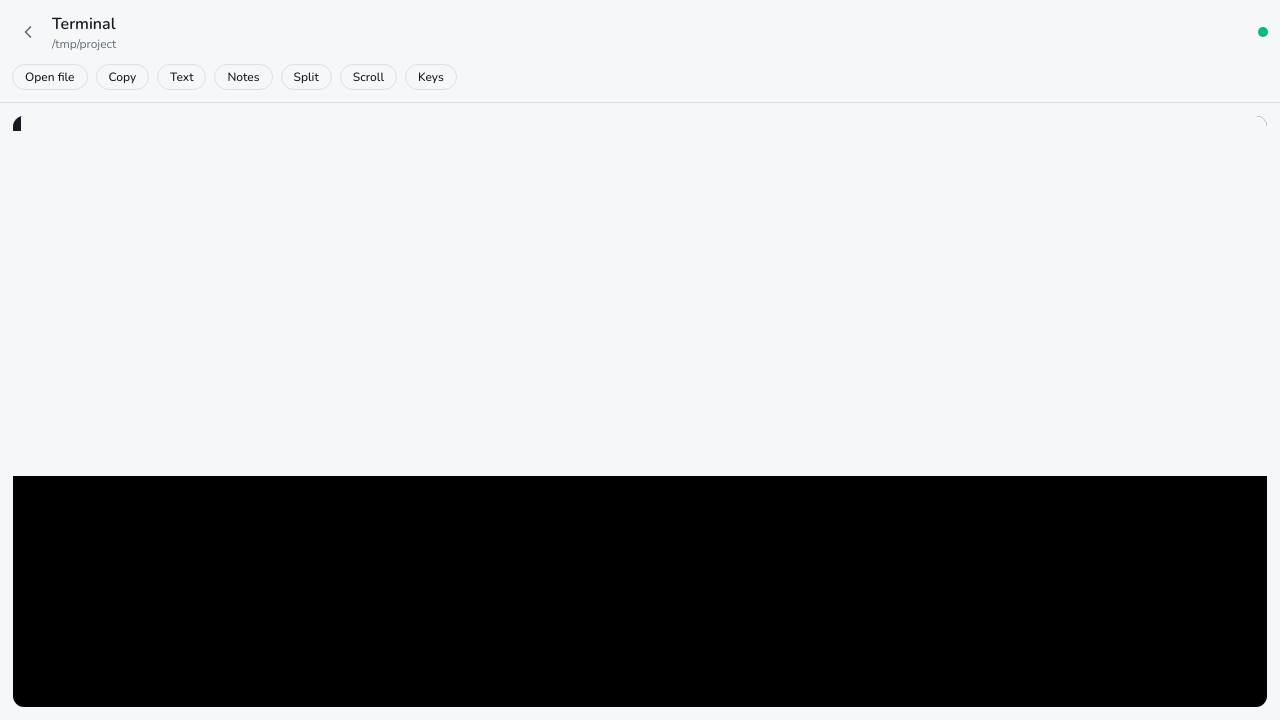
TerminalPage open file dialog › opens an absolute file path directly instead of searching for it
Step 1. Click the button "Open file" → x=50, y=77, box [12, 64, 88, 90]
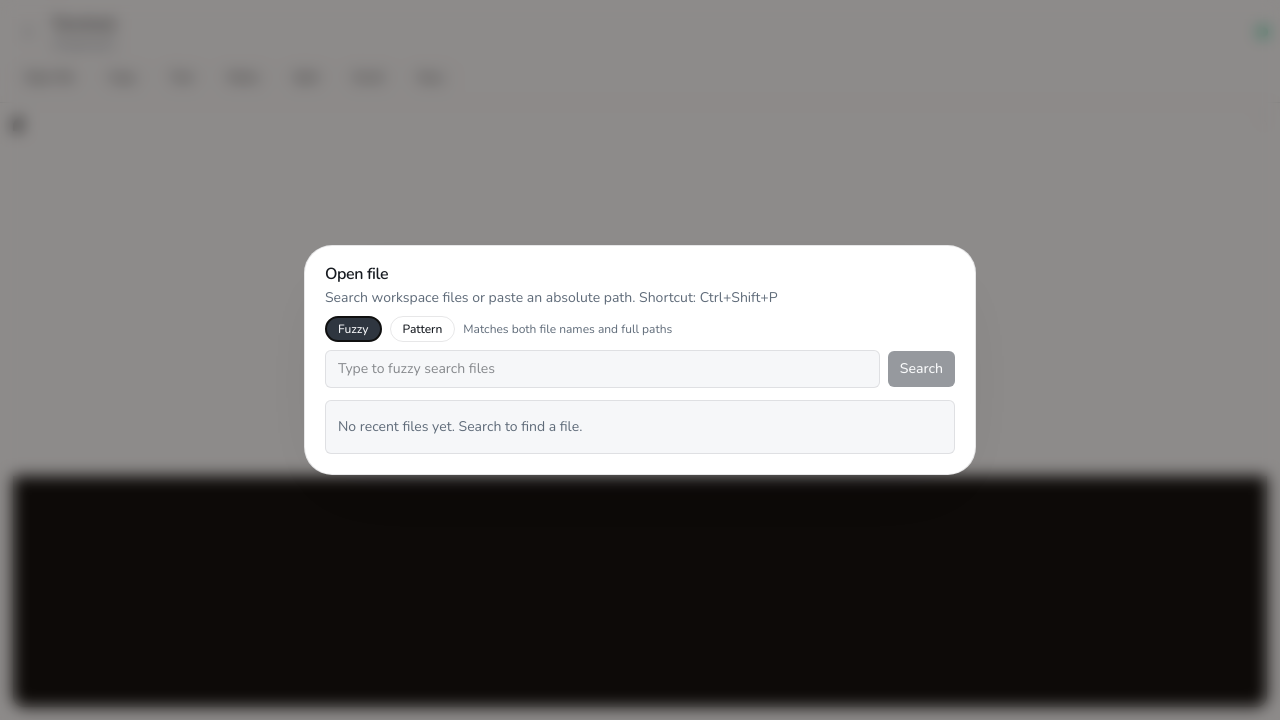
Step 2. Type "/tmp/project/src/app.ts" into the field with placeholder "Type to fuzzy search files" → x=602, y=369, box [325, 350, 880, 388]
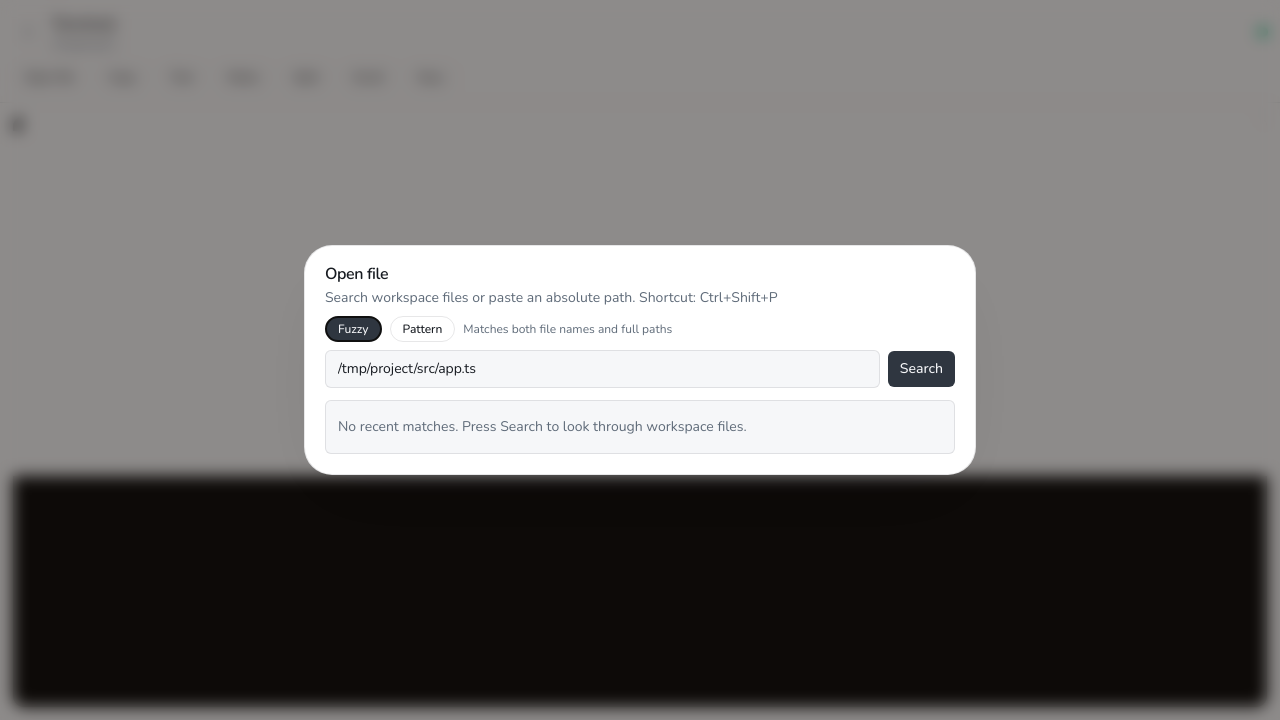
Step 3. Click the button "Search" → x=921, y=369, box [888, 351, 955, 387]
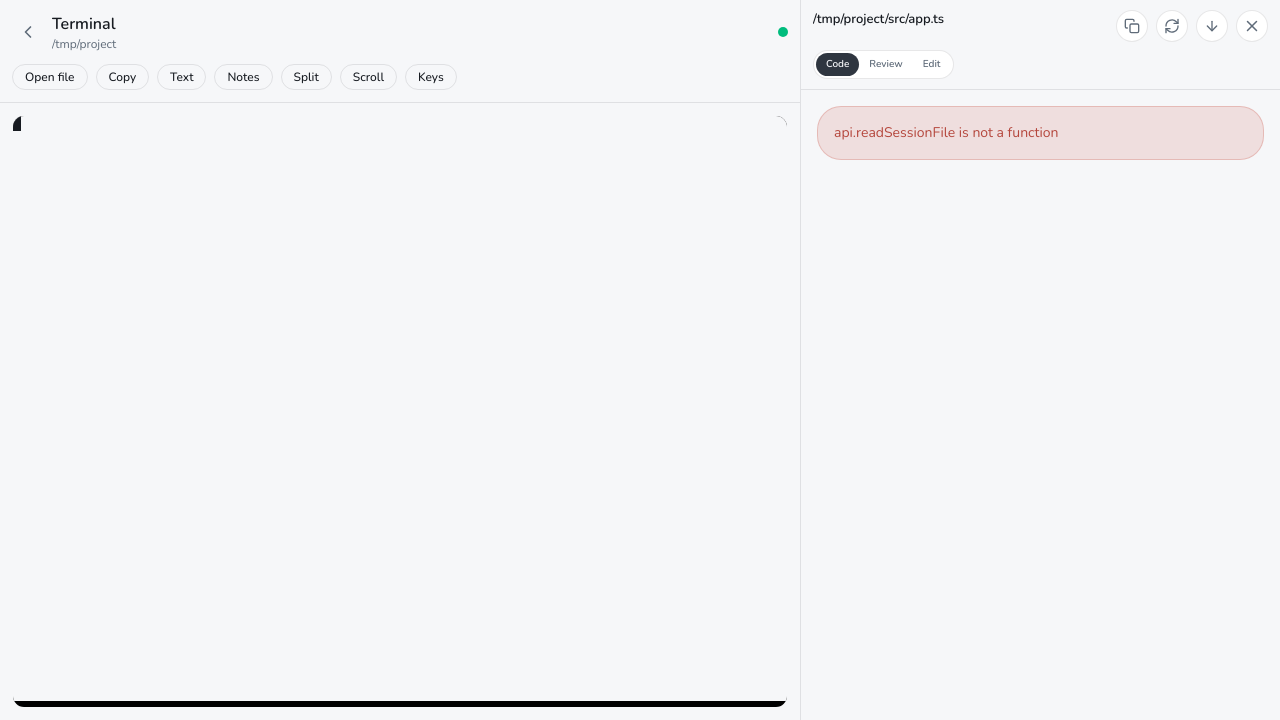
expect the text "/tmp/project/src/app.ts" is shown: met, box [813, 10, 944, 28]
